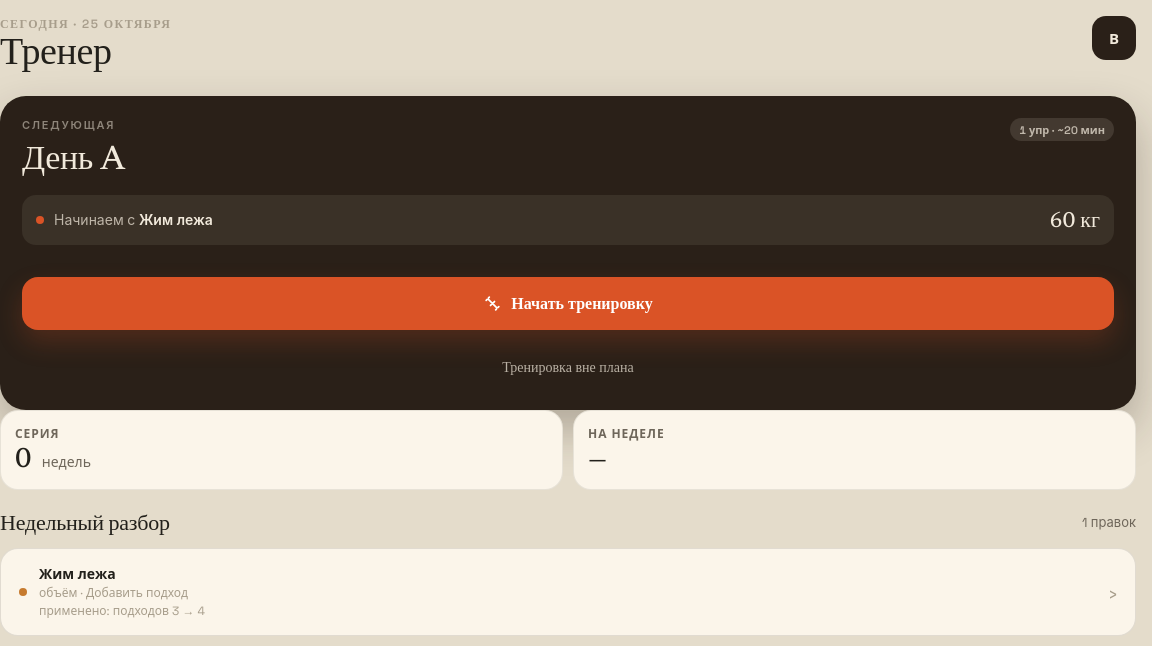
CoachHome — применённые изменения недельного разбора (#420) › сбой отмены оставляет кнопку и показывает ошибку
This screenshot has width=1152, height=646.
Click the button with test id "weekly-review-change": (77, 574) [17, 551, 1119, 633]
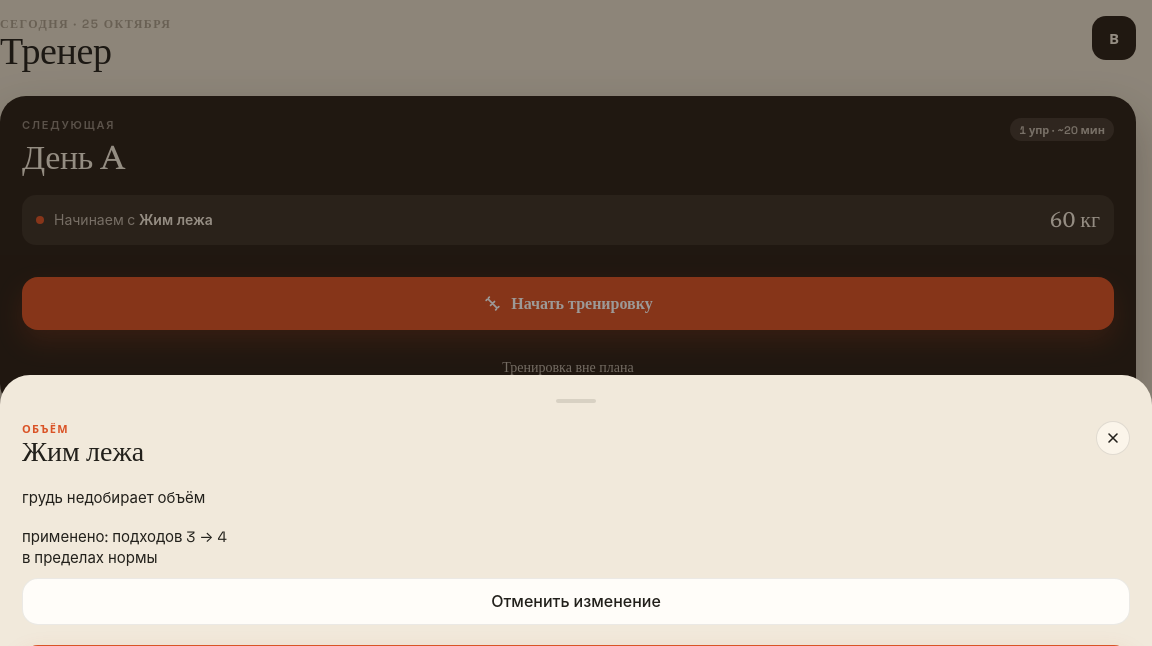
Click the button with aria-label "Отменить изменение плана": (576, 602) [22, 578, 1130, 625]
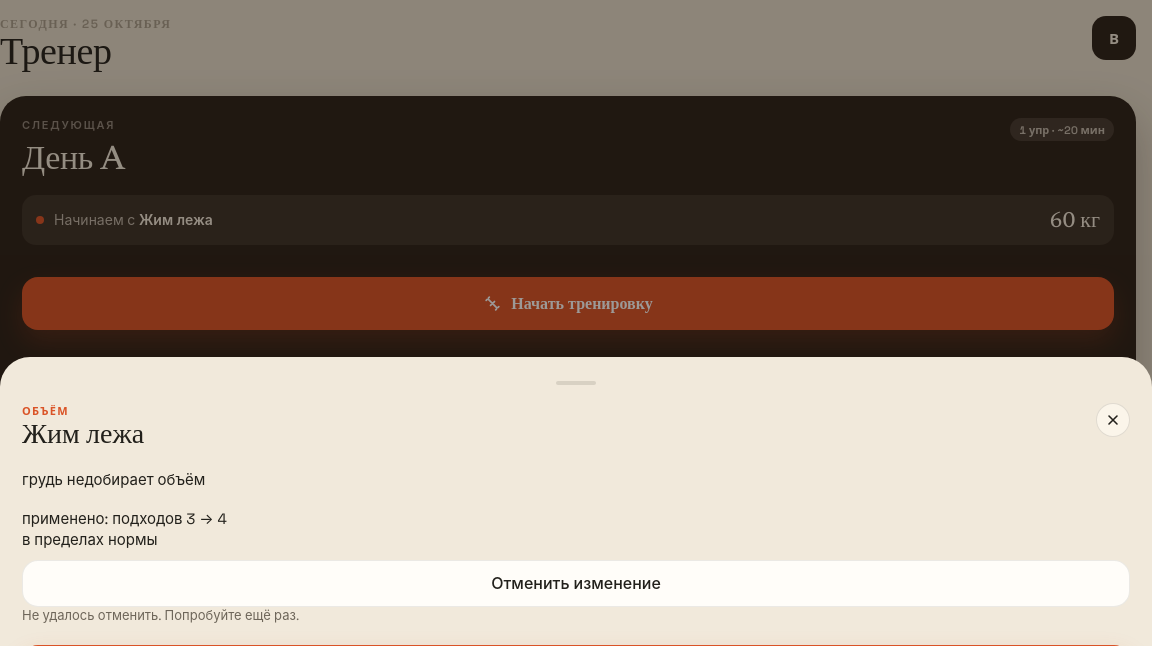
Expected: the button with aria-label "Отменить изменение плана" is enabled, [22, 560, 1130, 607]
Expected: the message "Не удалось отменить. Попробуйте ещё раз." is shown, [22, 607, 299, 624]
